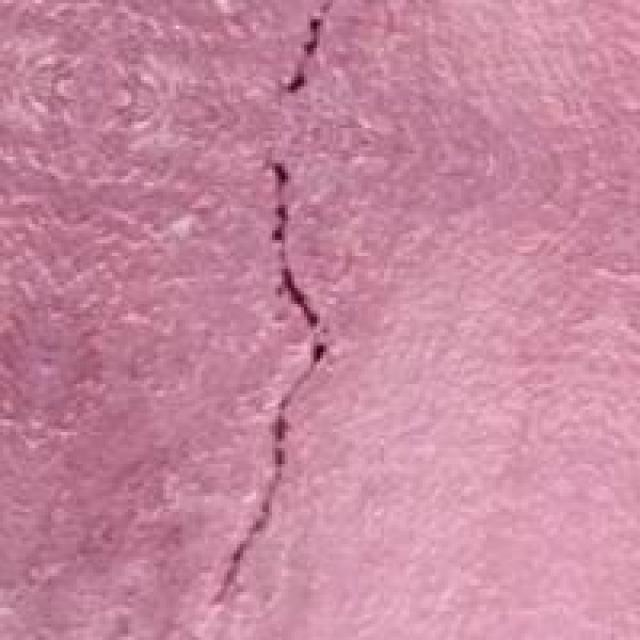crack: (163, 6, 394, 618)
